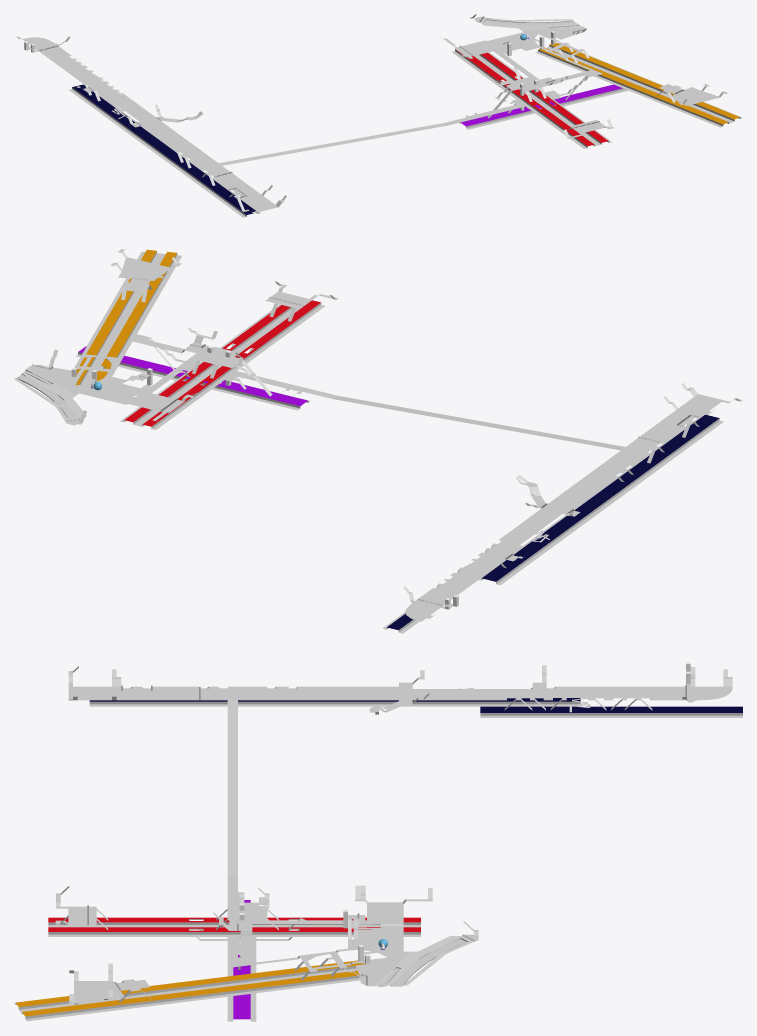
Rendered from station_animation2.glb.
The picture shows the model from 3 angles, top to bottom: view 1: azimuth 30°, elevation 25°; view 2: azimuth 150°, elevation 25°; view 3: azimuth 270°, elevation 25°; orthographic projection. The views are drawn at different scales.
Parts seen in each view (by area): view 1: Stations, Platforms, Stairs, Elevators; view 2: Stations, Platforms, Stairs; view 3: Stations, Platforms, Stairs.
Part boxes in pixels (bbox=[...]): Stations: bbox=[23, 16, 742, 217]; Platforms: bbox=[72, 17, 739, 214]; Stairs: bbox=[16, 14, 727, 211]; Elevators: bbox=[24, 31, 555, 110]; Stations: bbox=[17, 251, 729, 633]; Platforms: bbox=[14, 249, 719, 630]; Stairs: bbox=[49, 249, 742, 618]; Stations: bbox=[14, 674, 742, 1021]; Platforms: bbox=[16, 698, 742, 1019]; Stairs: bbox=[55, 665, 732, 1004].
Bounding box in the file's own units: 418 × 28.96 × 387.
Materials: 9 (1 with a texture image).
